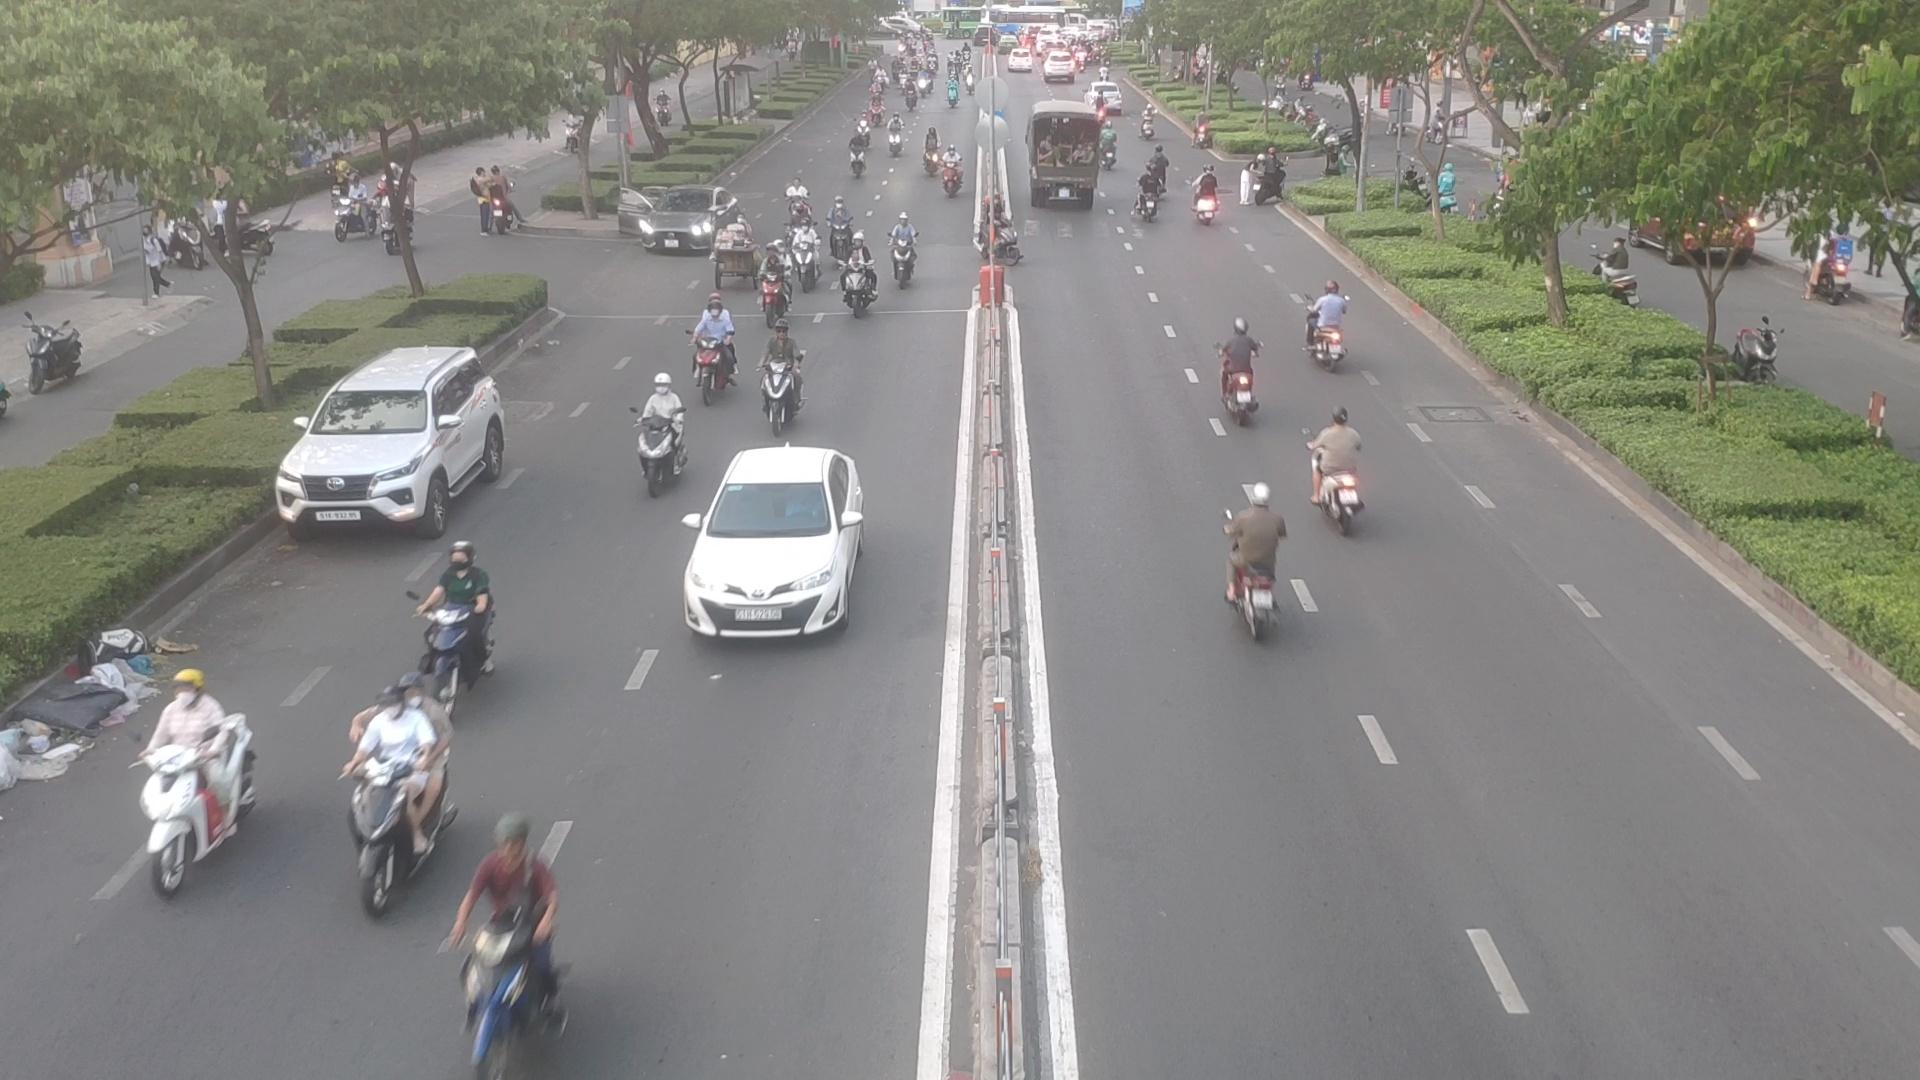car: (280, 343, 521, 530), (676, 443, 876, 636), (615, 191, 735, 258)
motorbike: (125, 684, 265, 890), (345, 708, 458, 903), (1215, 487, 1307, 632), (345, 688, 455, 803), (411, 545, 501, 679), (1305, 411, 1379, 530), (0, 700, 87, 794), (629, 381, 694, 483), (687, 301, 744, 393), (764, 324, 818, 419), (1213, 326, 1269, 418), (1304, 282, 1360, 363), (884, 215, 920, 287), (837, 258, 881, 316), (825, 203, 861, 252), (1135, 171, 1167, 222), (1189, 167, 1218, 222), (847, 142, 873, 182)
